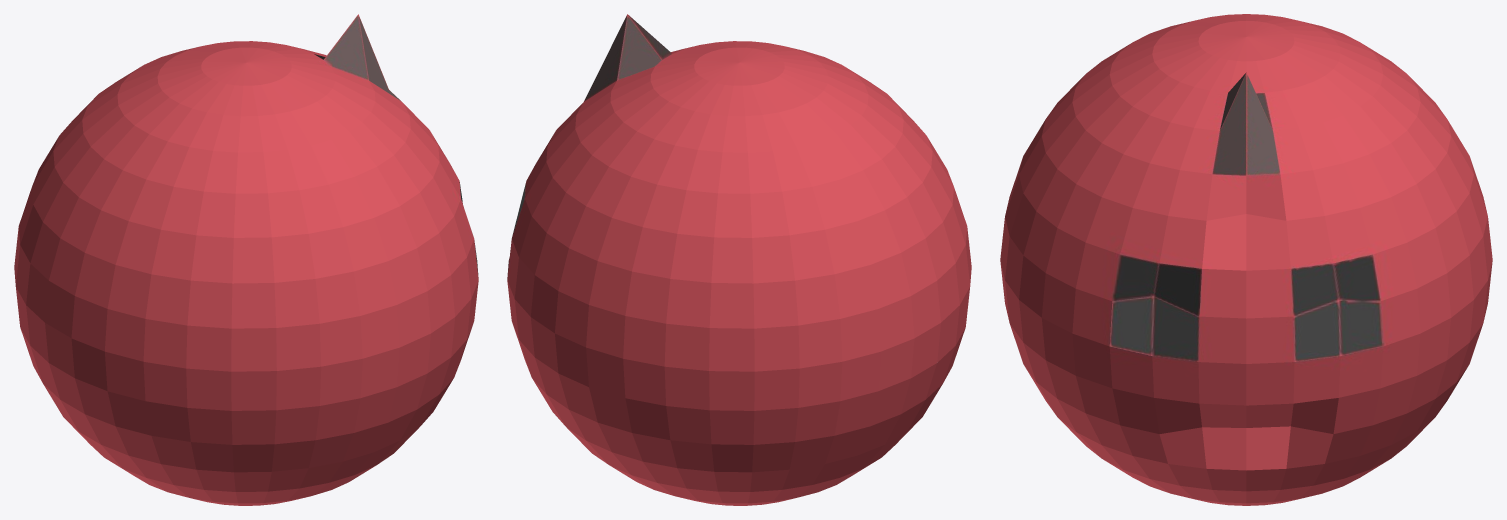
File: enemy.obj
3 renders of one model, left to right at view 1: azimuth 30°, elevation 25°; view 2: azimuth 150°, elevation 25°; view 3: azimuth 270°, elevation 25°, orthographic. The views are drawn at different scales.
Visible parts, largest first — view 1: 球; view 2: 球; view 3: 球.
Part boxes in pixels (box(x1,y1,x2,y2)): 球: box(14, 14, 478, 505); 球: box(507, 14, 971, 505); 球: box(1000, 14, 1492, 505).
Bounding box in the file's own units: 2 × 2.1 × 2.
Materials: 1 (1 with a texture image).
